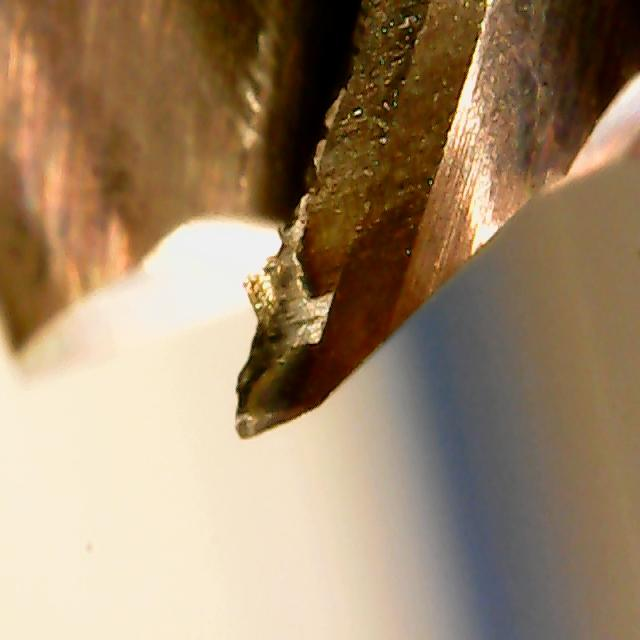Tool-wear-class-3: (216, 214, 391, 450)
